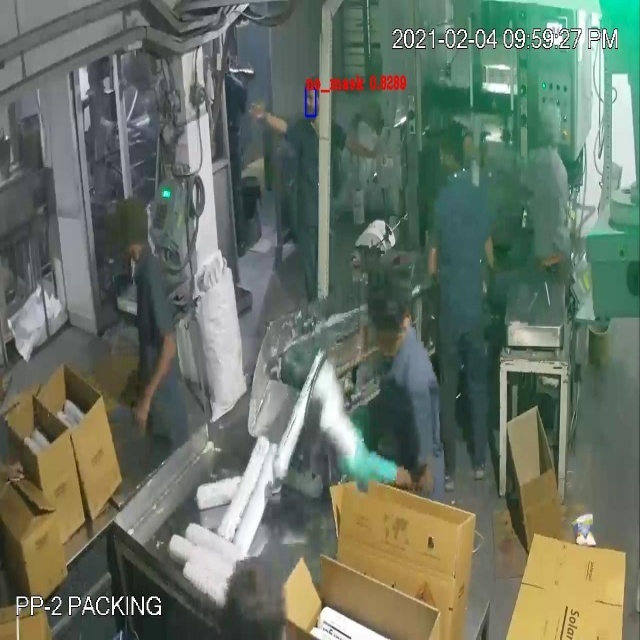Guantes: (332, 430, 446, 523)
Sin_guantes: (121, 316, 180, 445), (246, 85, 299, 167), (339, 120, 388, 180), (1, 439, 29, 492)
